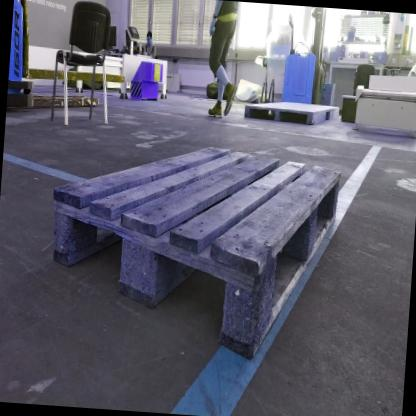BoxFace: (50, 142, 341, 367), (242, 98, 341, 130)
